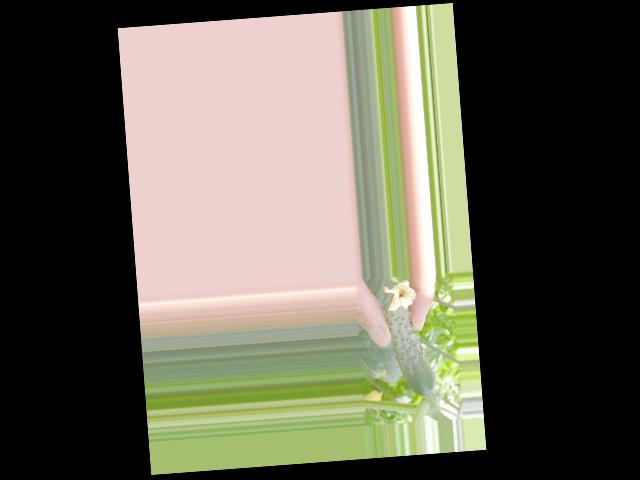cucumber: (383, 280, 436, 398)
